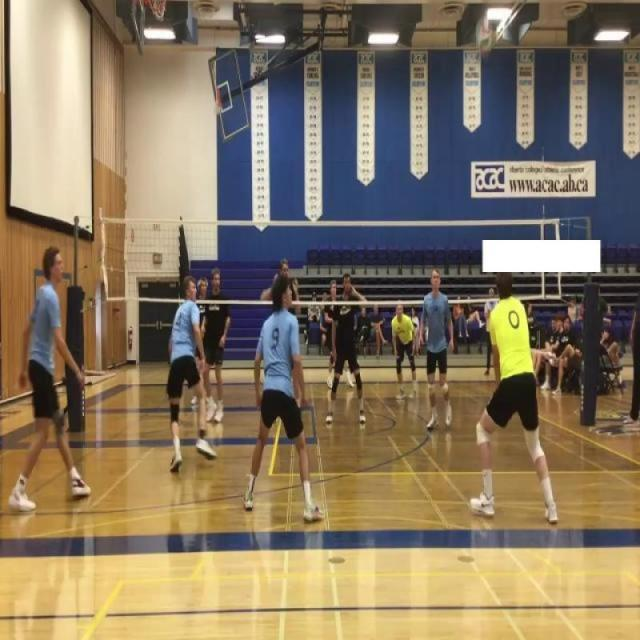volleyball: (475, 16, 492, 56)
